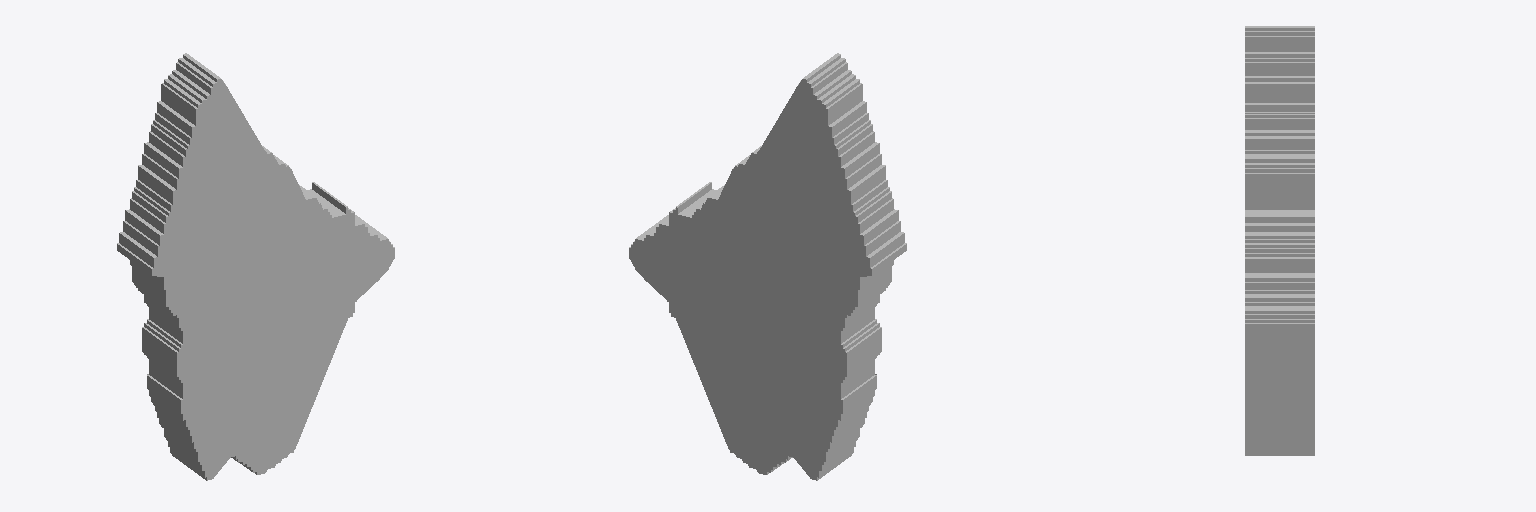
3 renders of one model, left to right at view 1: azimuth 30°, elevation 25°; view 2: azimuth 150°, elevation 25°; view 3: azimuth 270°, elevation 25°, orthographic.
Visible parts, largest first — view 1: 平面; view 2: 平面; view 3: 平面.
Part boxes in pixels (bbox=[...]): 平面: bbox=[117, 53, 394, 480]; 平面: bbox=[629, 53, 906, 480]; 平面: bbox=[1245, 26, 1314, 455].
Bounding box in the file's own units: 0.81 × 1.29 × 0.2.